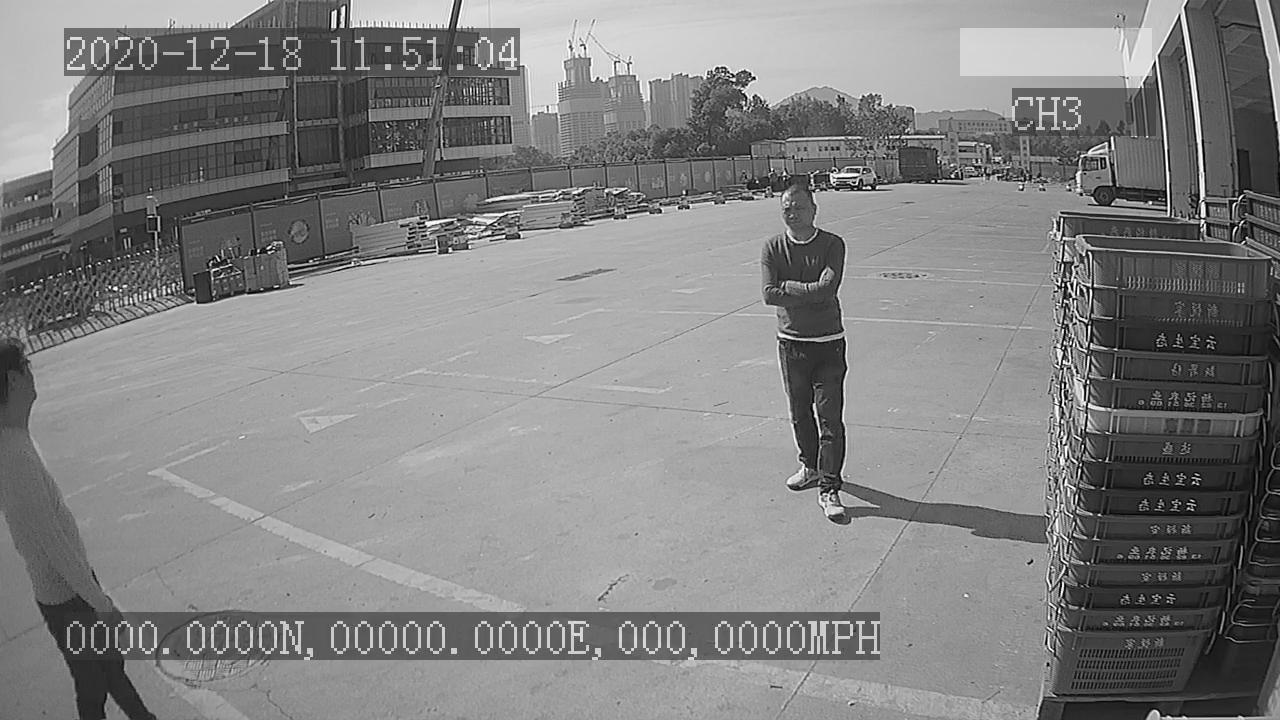person: (754, 174, 854, 526)
